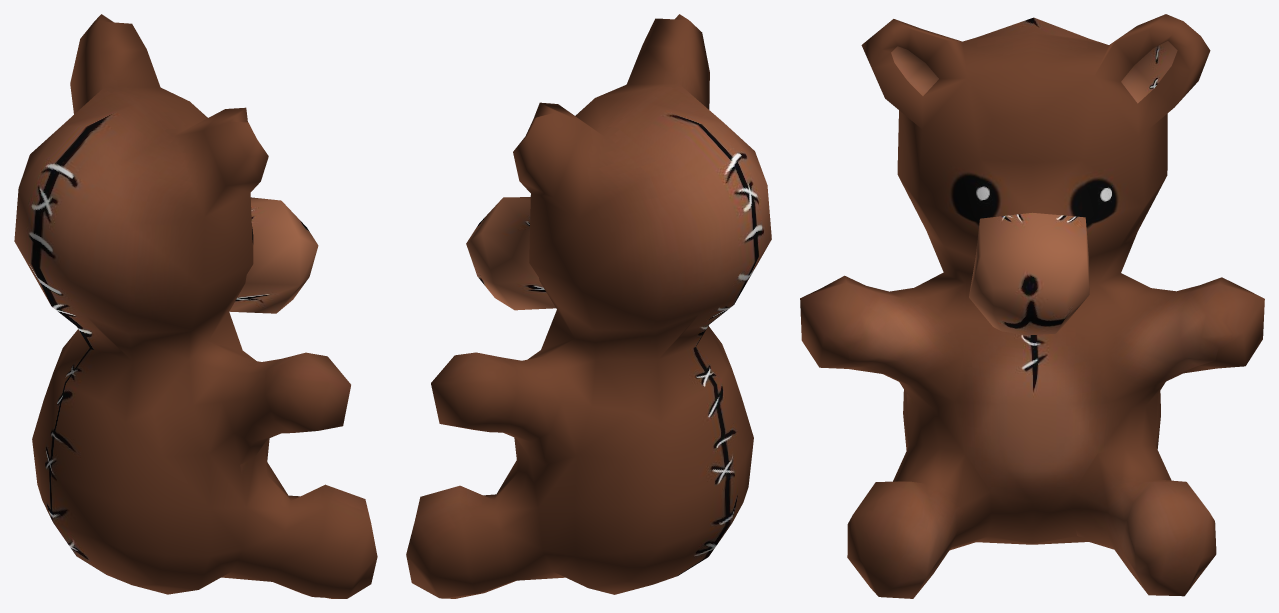
File: SM_Teddy.fbx
3 renders of one model, left to right at view 1: azimuth 30°, elevation 25°; view 2: azimuth 150°, elevation 25°; view 3: azimuth 270°, elevation 25°, orthographic. The views are drawn at different scales.
Visible parts, largest first — view 1: SM_Teddy; view 2: SM_Teddy; view 3: SM_Teddy.
Boxes of the visible parts, box(x1,y1,x2,y2) form: SM_Teddy: box(14, 14, 377, 598); SM_Teddy: box(406, 14, 771, 598); SM_Teddy: box(800, 14, 1264, 598).
Bounding box in the file's own units: 83.8 × 148 × 118.
